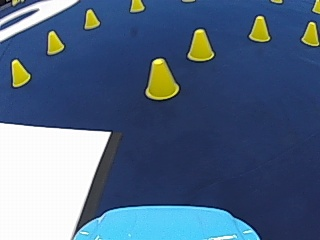cone: (144, 56, 179, 99), (186, 28, 214, 61), (247, 14, 270, 41), (9, 58, 30, 86), (300, 21, 319, 45), (46, 29, 64, 54), (83, 8, 99, 29), (129, 0, 144, 12), (311, 0, 319, 13)
